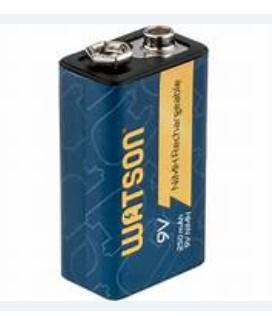9V Battery: (58, 27, 206, 301)
